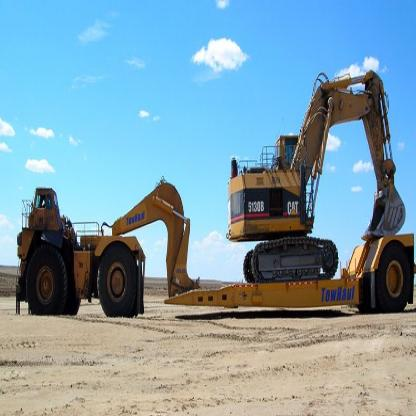excavator: (224, 61, 408, 288)
